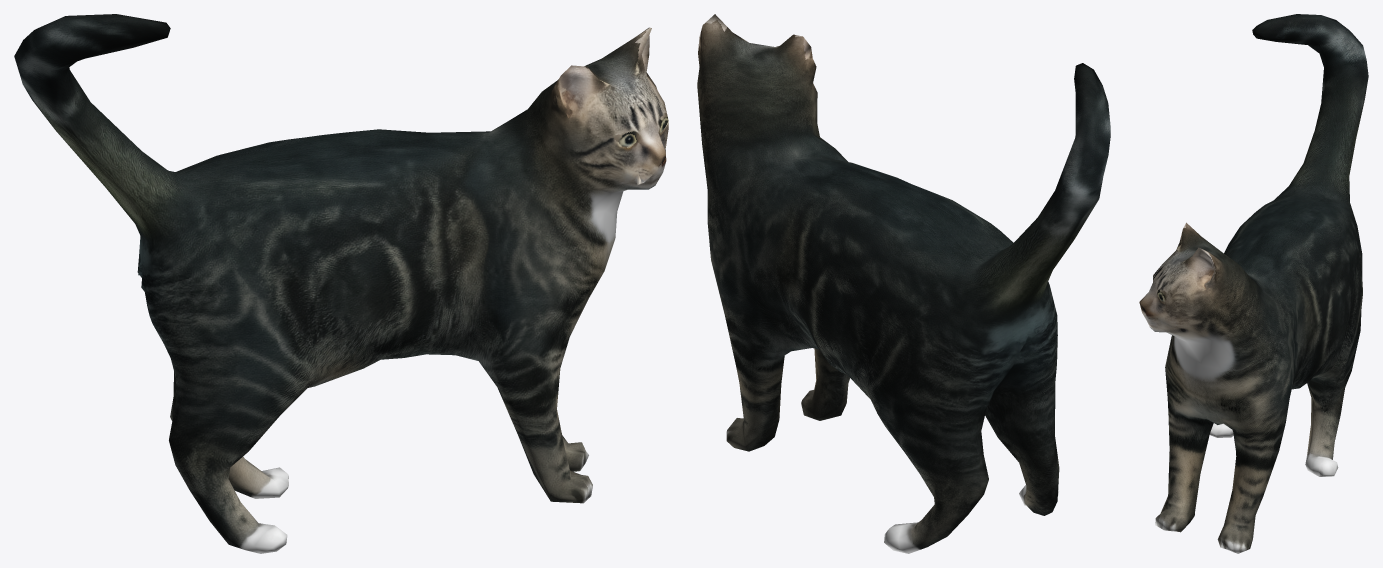
File: cat_jellie_single_1500.glb
The picture shows the model from 3 angles, left to right: view 1: azimuth 30°, elevation 25°; view 2: azimuth 150°, elevation 25°; view 3: azimuth 270°, elevation 25°; orthographic projection. The views are drawn at different scales.
Bounding box in the file's own units: 0.8869 × 0.8516 × 0.4483.
1 material, 1 textured.
